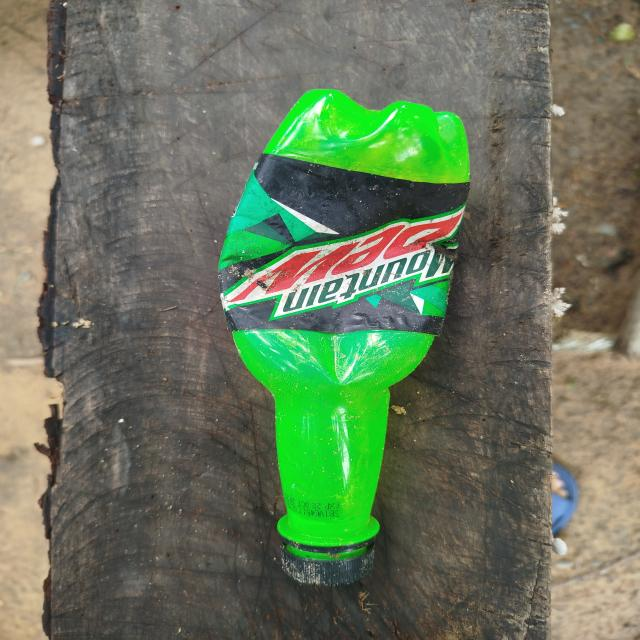plastic: (196, 77, 489, 604)
